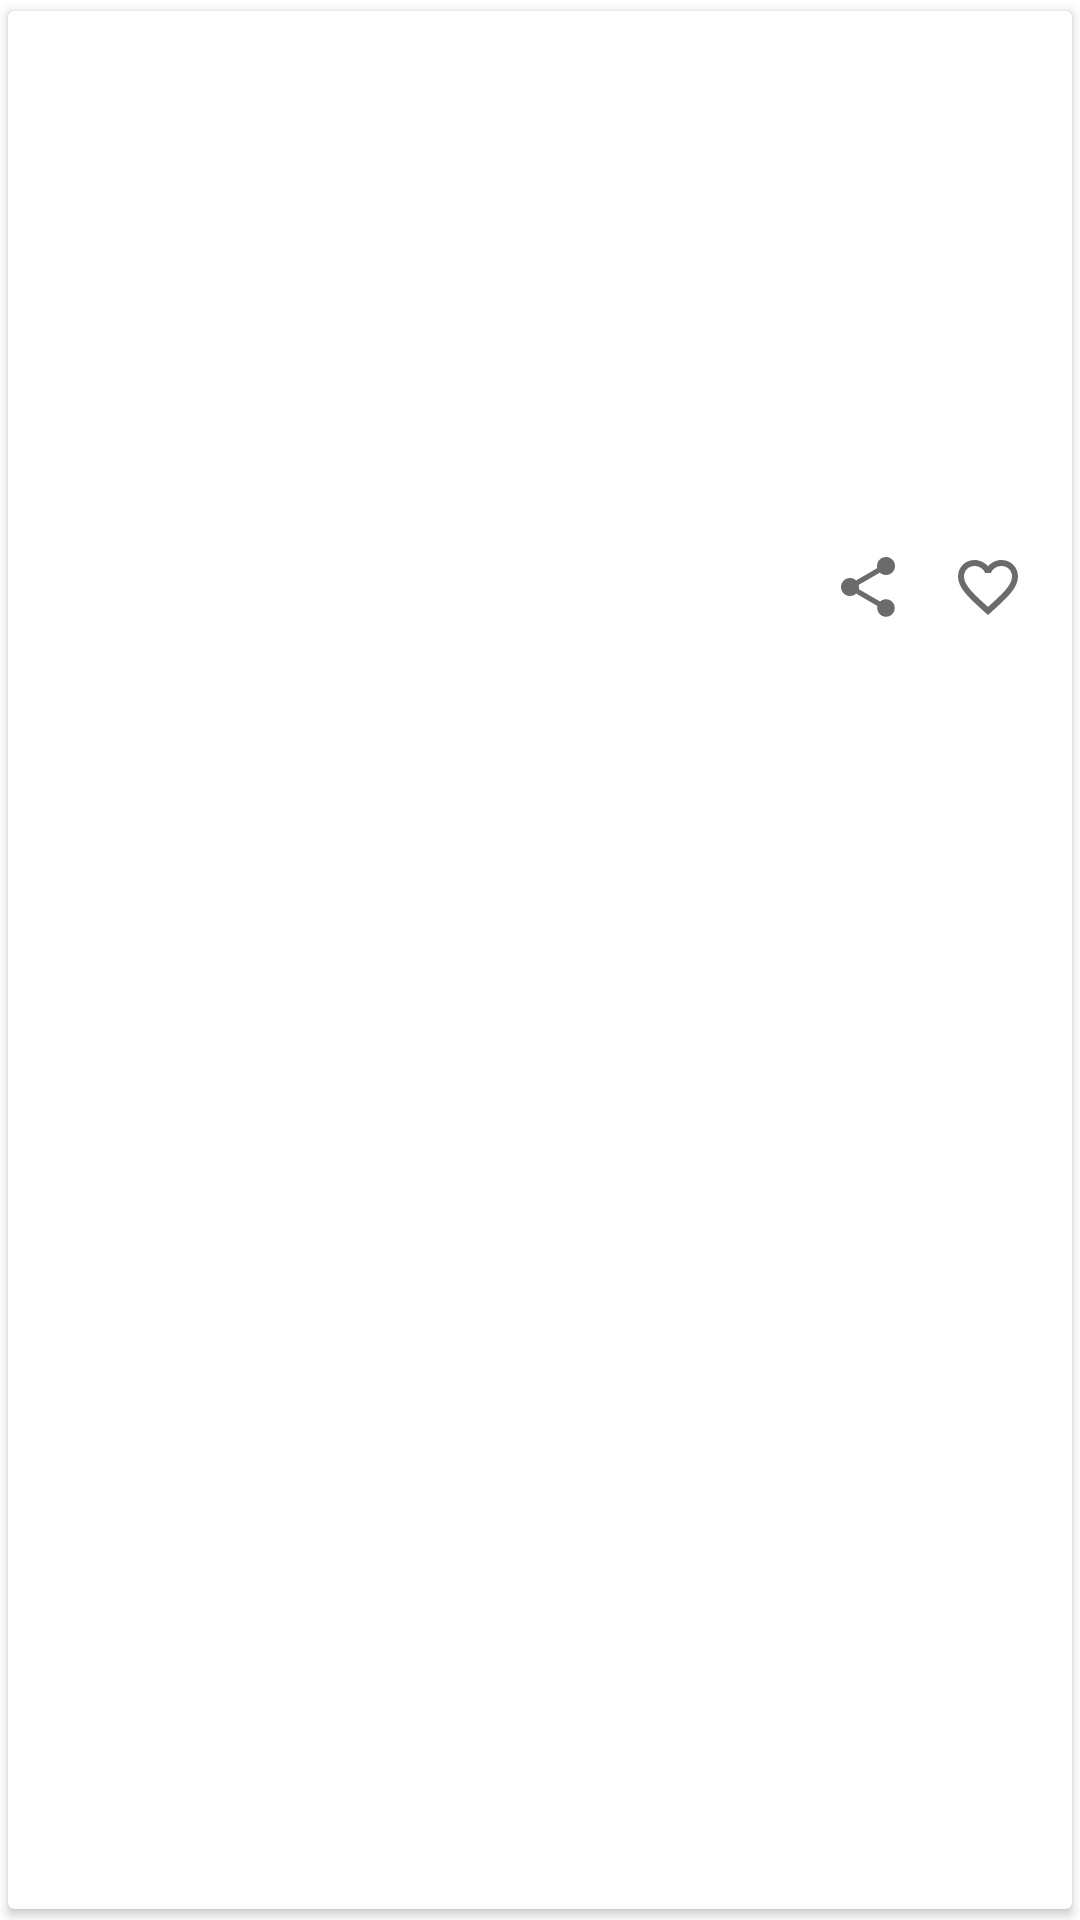

Icons on this 1080w x 1920h Android screen, each with its box as (x1, y1, x2, y2):
favorite border: (958, 560, 1018, 615)
share: (841, 557, 895, 617)
